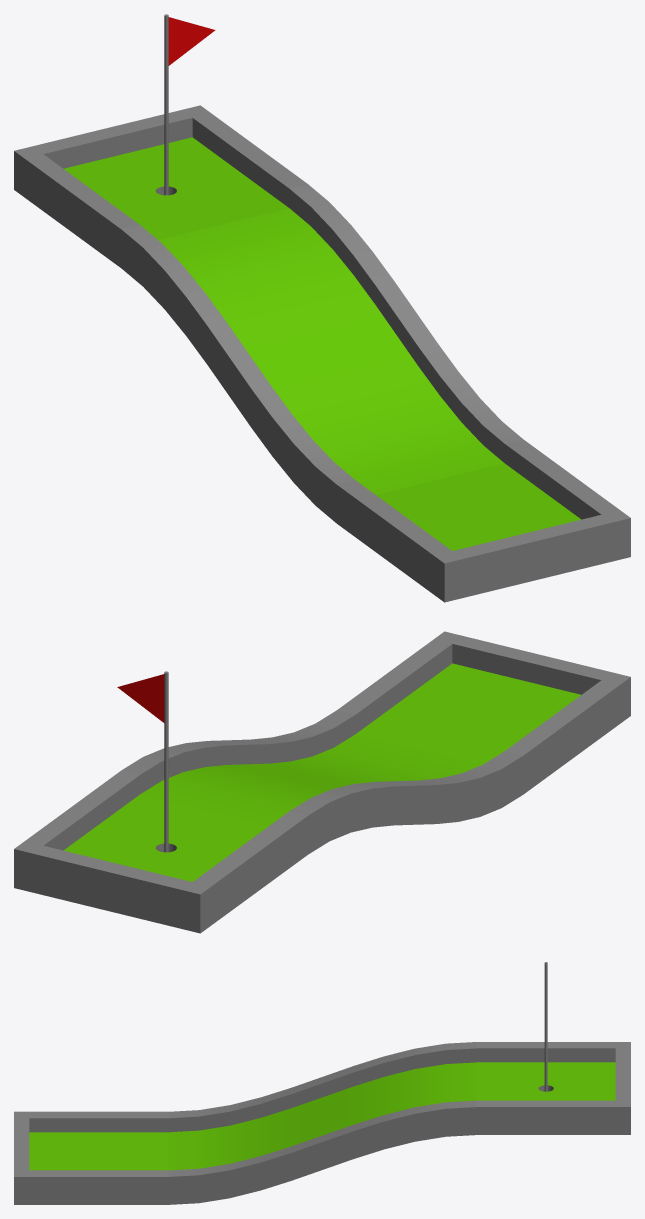
Rendered from course1.fbx.
3 renders of one model, top to bottom at view 1: azimuth 30°, elevation 25°; view 2: azimuth 150°, elevation 25°; view 3: azimuth 270°, elevation 25°, orthographic. The views are drawn at different scales.
Visible parts, largest first — view 1: middle2, start4, end, flag5, flag1; view 2: middle2, end, start4, flag1, flag5; view 3: middle2, start4, end, flag5.
Boxes of the visible parts, x1,y1,x2,y2 form: middle2: (121, 184, 522, 523); start4: (337, 439, 630, 602); end: (14, 105, 307, 268); flag5: (164, 14, 213, 195); flag1: (168, 17, 215, 65); middle2: (122, 710, 523, 854); end: (14, 770, 307, 933); start4: (337, 631, 630, 794); flag1: (117, 674, 164, 722); flag5: (120, 671, 168, 852); middle2: (168, 1042, 476, 1204); start4: (14, 1111, 168, 1204); end: (476, 1042, 630, 1134); flag5: (544, 962, 547, 1091).
Bounding box in the file's own units: 10 × 15 × 40.
